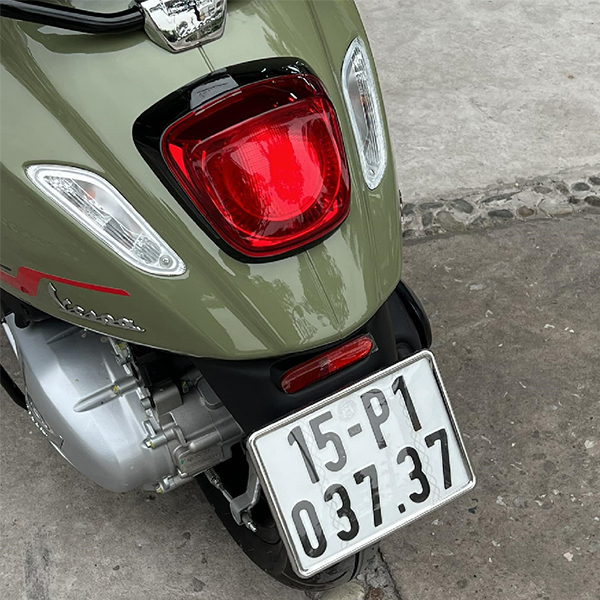number_plate: (232, 364, 500, 582)
